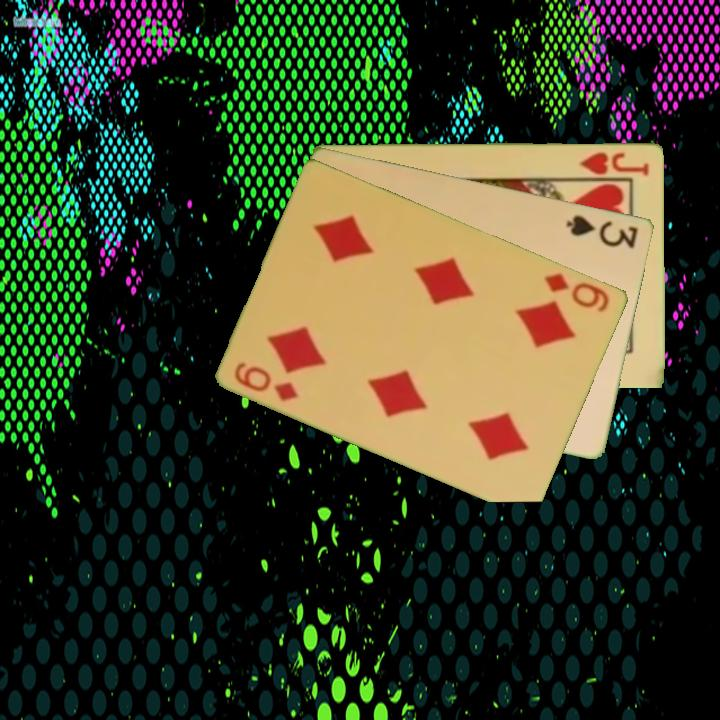3s: (563, 210, 641, 251)
6d: (541, 269, 613, 315), (231, 358, 303, 404)
Jh: (576, 148, 652, 178)
